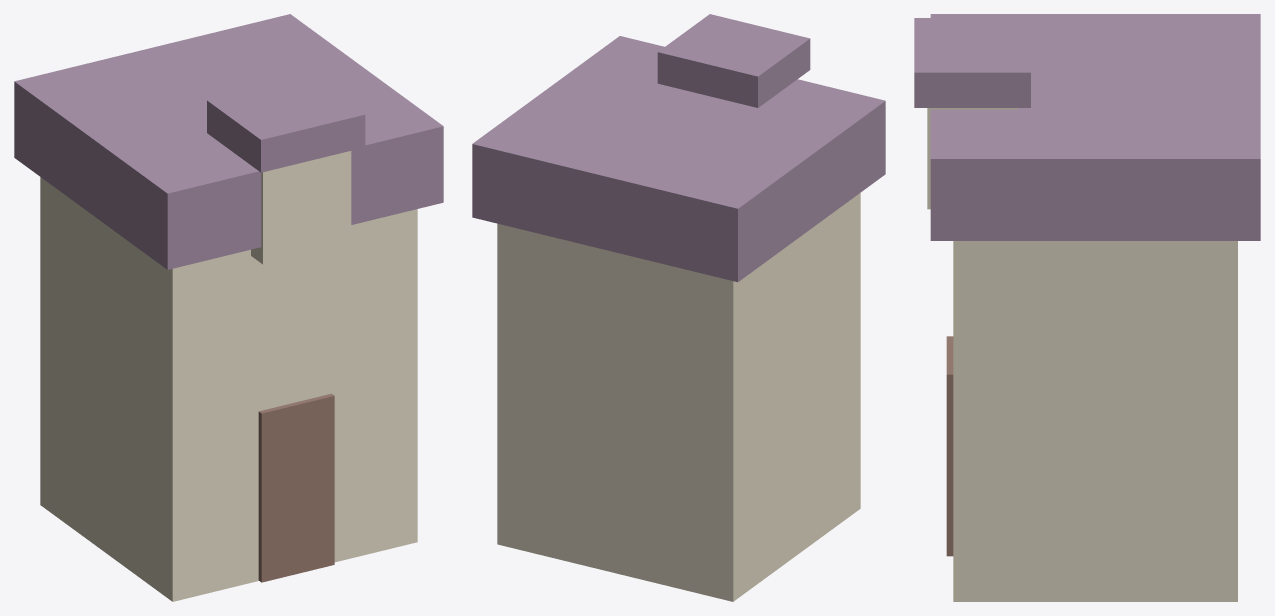
The model's file is house_b_lo1.glb.
The picture shows the model from 3 angles, left to right: view 1: azimuth 30°, elevation 25°; view 2: azimuth 150°, elevation 25°; view 3: azimuth 270°, elevation 25°; orthographic projection. The views are drawn at different scales.
Parts seen in each view (by area): view 1: house_b_lo1; view 2: house_b_lo1; view 3: house_b_lo1.
Part boxes in pixels (x1,y1,x2,y2): house_b_lo1: [14, 14, 443, 601]; house_b_lo1: [472, 14, 885, 601]; house_b_lo1: [914, 14, 1260, 601].
Size of the model in its own units: 2.65 by 4.2 by 2.67.
